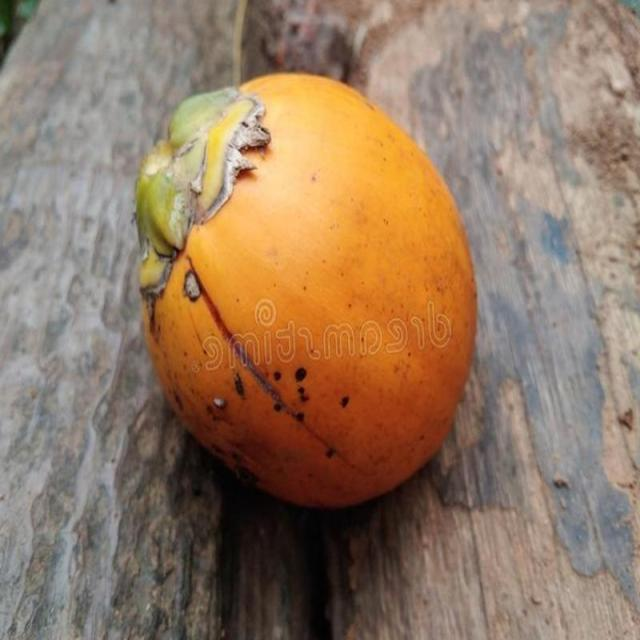good: (135, 73, 478, 512)
